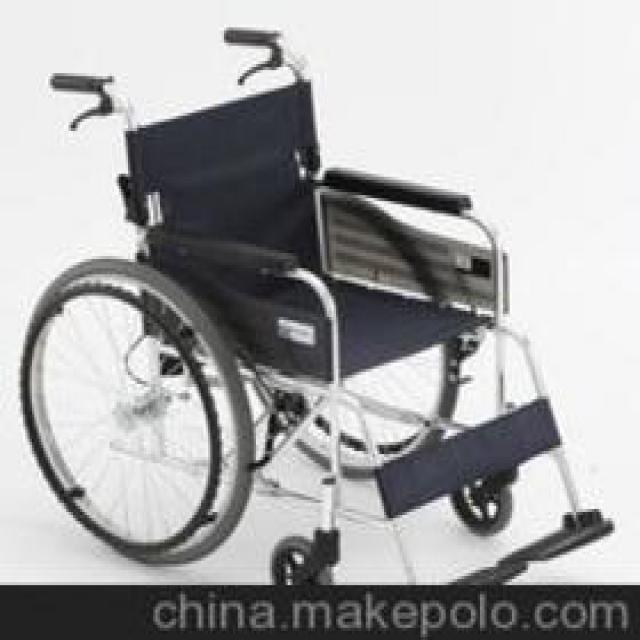wheelchairs: (22, 27, 612, 583)
